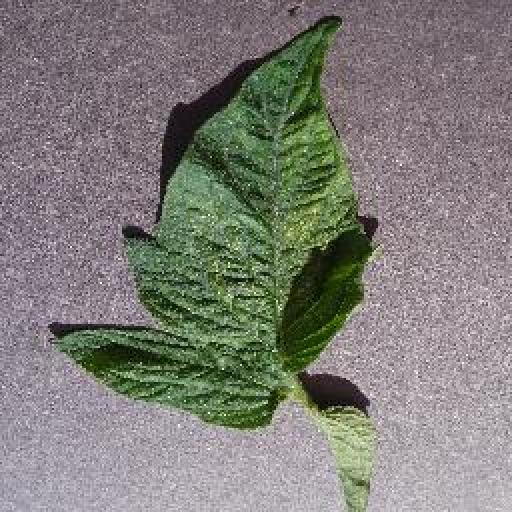Spider Mites: (55, 15, 378, 429)
